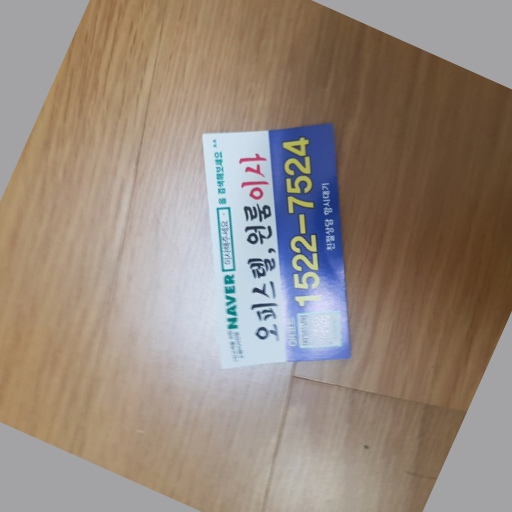Paper_2: (199, 121, 370, 378)
